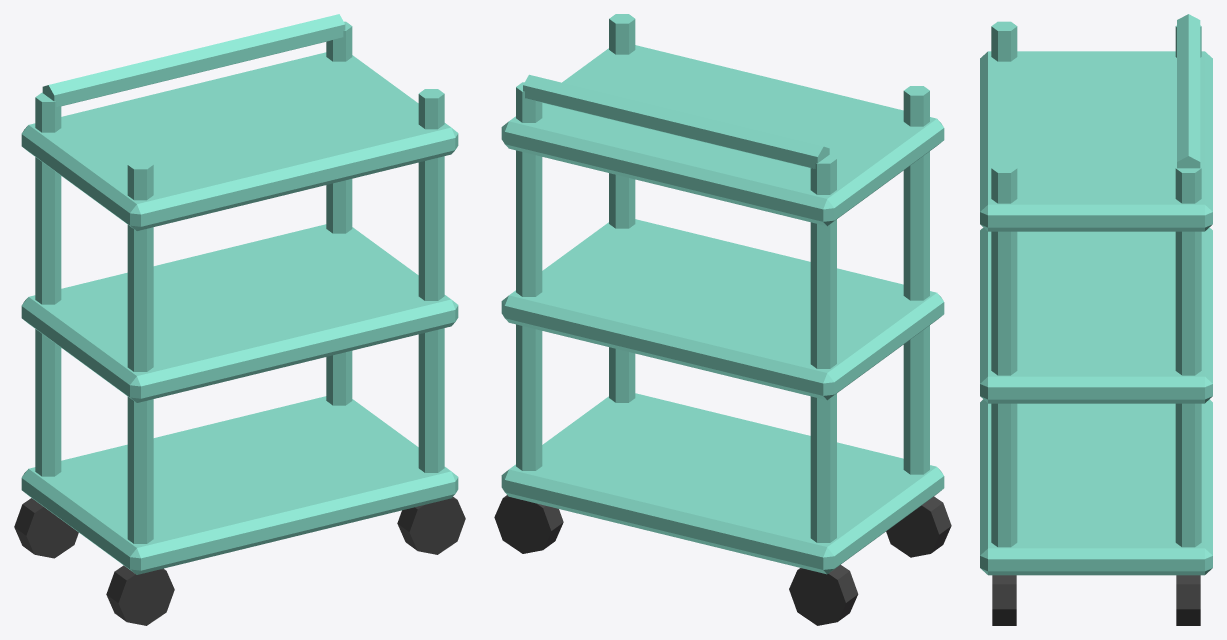
3 views of the same model, side by side, from view 1: azimuth 30°, elevation 25°; view 2: azimuth 150°, elevation 25°; view 3: azimuth 270°, elevation 25° (orthographic).
Visible parts, largest first — view 1: Tray.002, Tray.001, Tray, Post, Post.002, Post.001, Handle, Post.003, Wheel, Wheel.002, Wheel.001; view 2: Tray.001, Tray, Tray.002, Post.001, Post, Post.003, Handle, Post.002, Wheel.001, Wheel.003, Wheel; view 3: Tray.002, Tray, Tray.001, Post.002, Post.003, Handle, Wheel.002, Wheel.003, Post.
Boxes of the visible parts, box(x1,y1,x2,y2) form: Tray.002: box(21, 52, 458, 230); Tray.001: box(21, 224, 458, 402); Tray: box(21, 396, 458, 574); Post: box(127, 160, 153, 543); Post.002: box(418, 89, 444, 472); Post.001: box(35, 92, 61, 476); Handle: box(42, 14, 345, 106); Post.003: box(326, 21, 352, 405); Wheel: box(106, 565, 174, 625); Wheel.002: box(397, 497, 465, 554); Wheel.001: box(14, 498, 78, 558); Tray.001: box(501, 219, 944, 400); Tray: box(501, 393, 944, 574); Tray.002: box(501, 45, 944, 226); Post.001: box(810, 154, 836, 542); Post: box(903, 86, 929, 474); Post.003: box(516, 82, 542, 470); Handle: box(523, 74, 829, 168); Post.002: box(609, 14, 635, 402); Wheel.001: box(789, 564, 858, 625); Wheel.003: box(494, 495, 563, 553); Wheel: box(886, 496, 951, 557); Tray.002: box(980, 51, 1212, 231); Tray: box(980, 399, 1212, 575); Tray.001: box(980, 227, 1212, 403); Post.002: box(991, 163, 1017, 547); Post.003: box(1175, 167, 1201, 547); Handle: box(1177, 14, 1200, 168); Wheel.002: box(992, 575, 1016, 625); Wheel.003: box(1176, 575, 1200, 625); Post: box(991, 21, 1017, 61).
Size of the model in its own units: 74 by 95.5 by 43.
